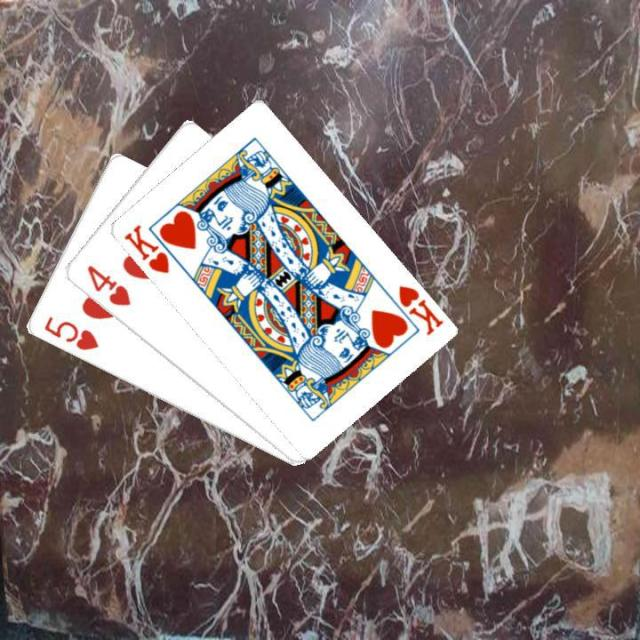4H: (82, 260, 132, 308)
5H: (39, 312, 101, 353)
KH: (119, 220, 171, 276), (393, 281, 444, 338)
